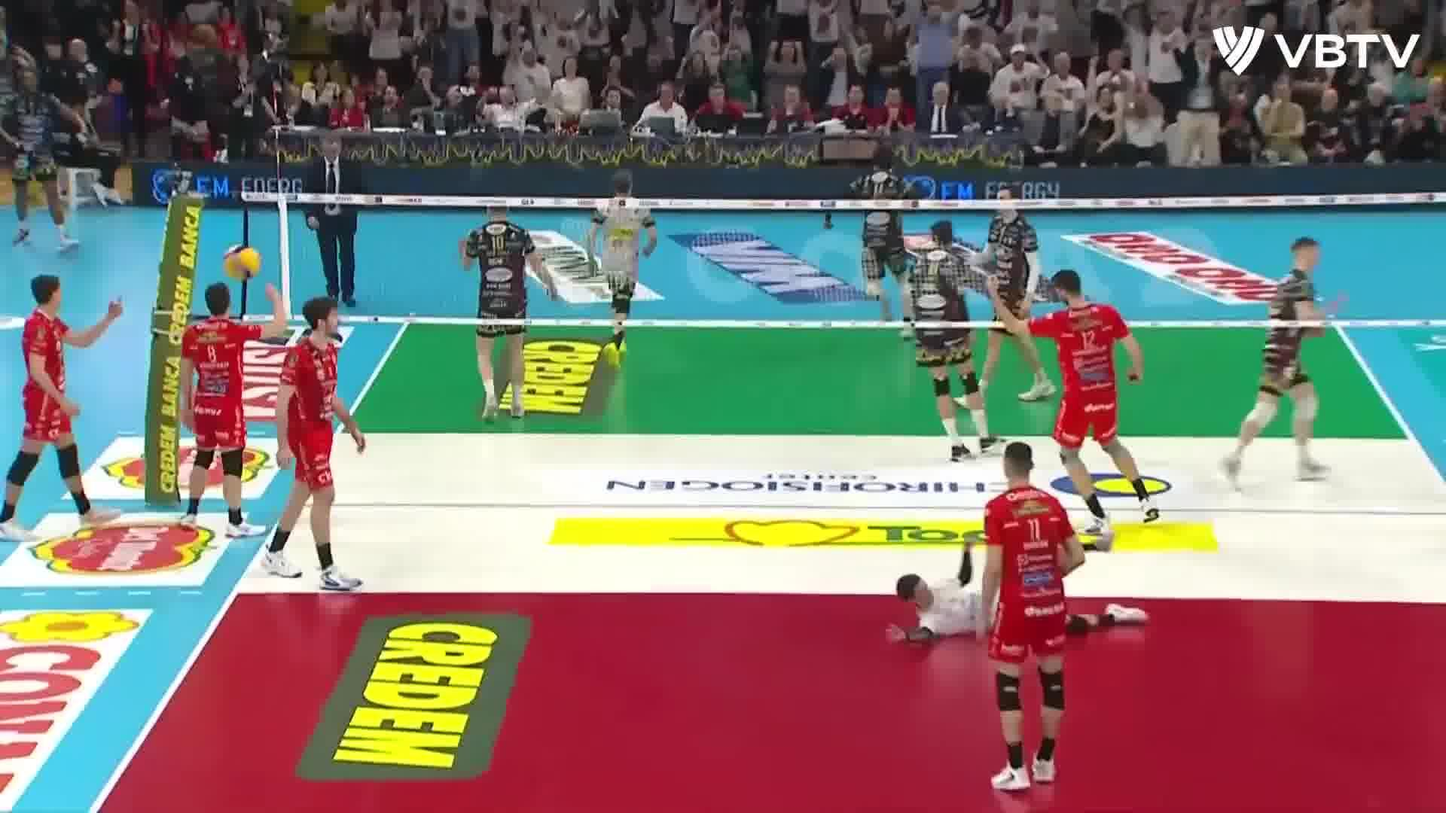balls: (221, 239, 266, 283)
